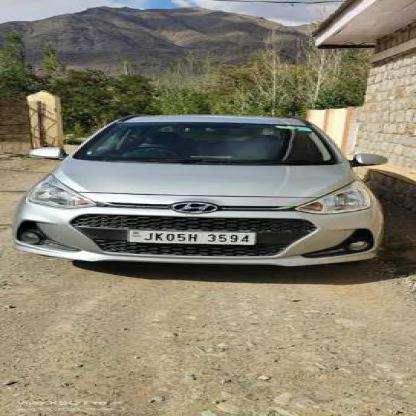license_plate: (125, 229, 254, 244)
